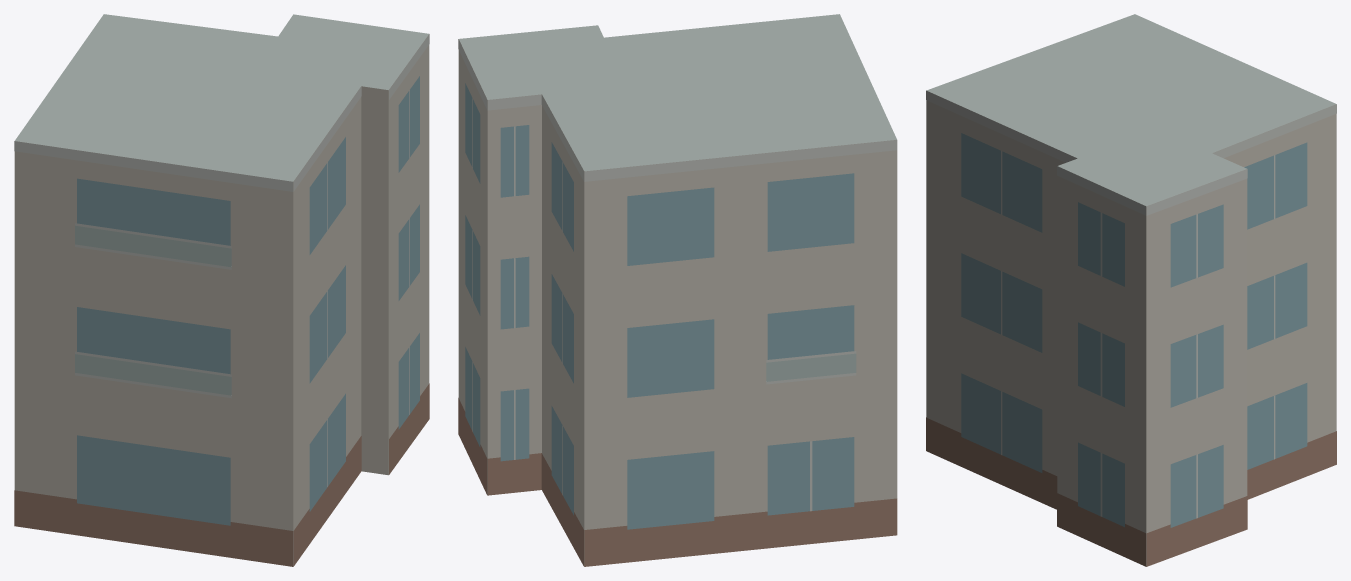
The model's file is survey-upis-32724457.glb.
3 views of the same model, side by side, from view 1: azimuth 30°, elevation 25°; view 2: azimuth 150°, elevation 25°; view 3: azimuth 270°, elevation 25° (orthographic). The views are drawn at different scales.
Parts seen in each view (by area): view 1: survey-upis-32724457.tmp; view 2: survey-upis-32724457.tmp; view 3: survey-upis-32724457.tmp.
Boxes of the visible parts, bbox=[...] form: survey-upis-32724457.tmp: bbox=[14, 14, 429, 566]; survey-upis-32724457.tmp: bbox=[458, 14, 897, 566]; survey-upis-32724457.tmp: bbox=[926, 14, 1336, 566].
Bounding box in the file's own units: 10.48 × 9.15 × 9.45.
